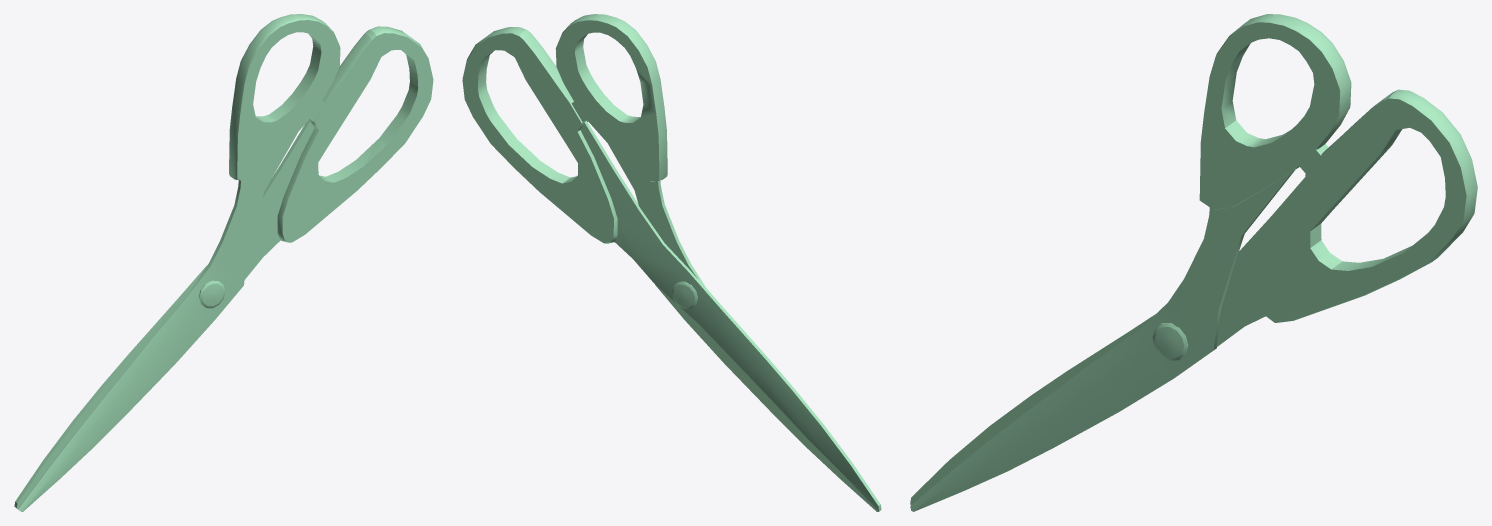
Rendered from ItemScissorsB.fbx.
The picture shows the model from 3 angles, left to right: view 1: azimuth 30°, elevation 25°; view 2: azimuth 150°, elevation 25°; view 3: azimuth 330°, elevation 25°; orthographic projection. The views are drawn at different scales.
Parts seen in each view (by area): view 1: polySurface2, Blade1, polySurface1, Blade2, Screw; view 2: polySurface2, Blade2, polySurface1, Blade1, Screw; view 3: polySurface2, Blade1, polySurface1, Blade2, Screw.
Boxes of the visible parts, left/top/right/bottom form: polySurface2: left=277, top=26, right=433, bottom=242; Blade1: left=17, top=133, right=297, bottom=511; polySurface1: left=229, top=14, right=340, bottom=181; Blade2: left=14, top=120, right=314, bottom=508; Screw: left=199, top=280, right=225, bottom=308; polySurface2: left=462, top=27, right=617, bottom=243; Blade2: left=580, top=121, right=881, bottom=511; polySurface1: left=555, top=14, right=667, bottom=181; Blade1: left=608, top=144, right=880, bottom=511; Screw: left=671, top=281, right=697, bottom=308; polySurface2: left=1261, top=89, right=1477, bottom=322; Blade1: left=910, top=170, right=1294, bottom=511; polySurface1: left=1199, top=14, right=1351, bottom=209; Blade2: left=910, top=177, right=1310, bottom=505; Screw: left=1152, top=323, right=1188, bottom=360.
Bounding box in the file's own units: 10.09 × 9.94 × 0.3482.
